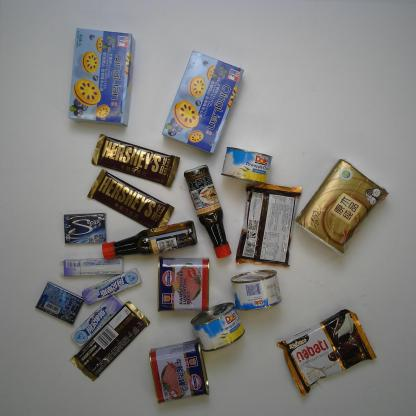Candy: (70, 295, 124, 345), (82, 266, 142, 304), (59, 254, 128, 280)
Canned Food: (149, 339, 209, 405), (156, 255, 211, 315), (191, 302, 246, 352), (220, 142, 276, 186), (230, 270, 284, 312)
Chocolate: (70, 302, 150, 382), (88, 170, 175, 233), (85, 132, 181, 187)
Dessert: (159, 50, 244, 156), (278, 309, 375, 396), (65, 24, 132, 126), (237, 180, 302, 270)
Gum: (35, 281, 85, 324), (62, 209, 108, 248)
Seasoner: (182, 163, 233, 257), (98, 218, 198, 257)
Tissue: (296, 153, 394, 264)
